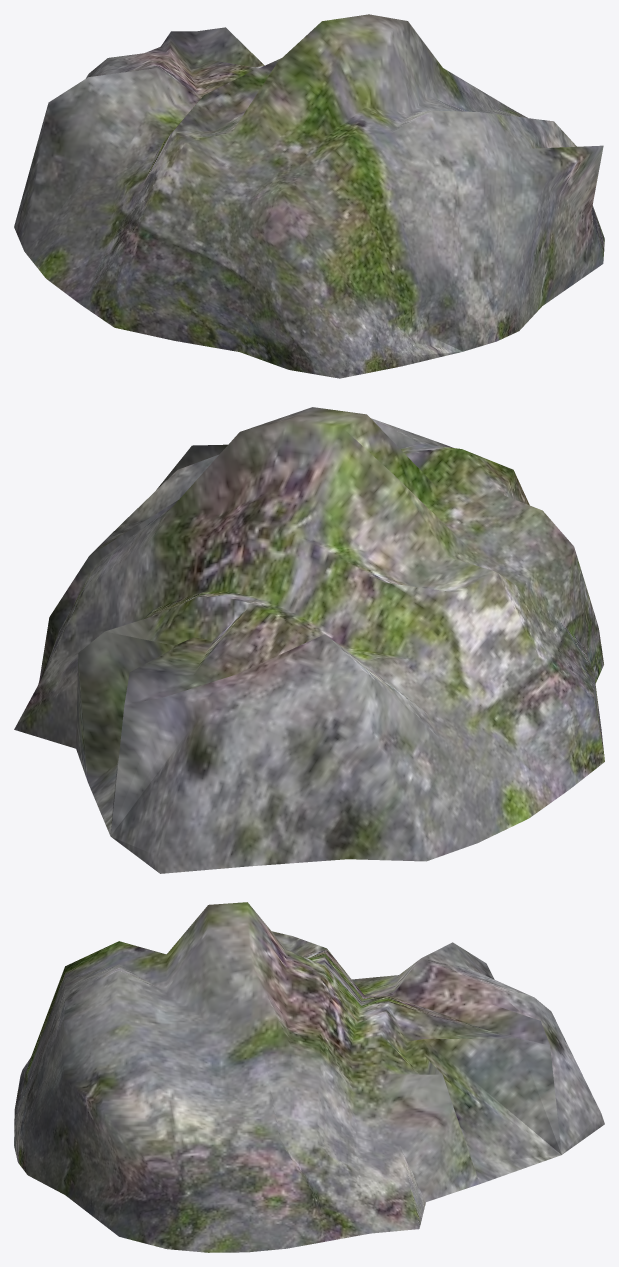
File: mountain.fbx
3 views of the same model, one above another, from view 1: azimuth 30°, elevation 25°; view 2: azimuth 150°, elevation 25°; view 3: azimuth 270°, elevation 25° (orthographic). The views are drawn at different scales.
Visible parts, largest first — view 1: mountain_1; view 2: mountain_1; view 3: mountain_1.
Part boxes in pixels (bbox=[...]): mountain_1: bbox=[14, 14, 604, 378]; mountain_1: bbox=[14, 407, 604, 873]; mountain_1: bbox=[14, 902, 604, 1252].
Size of the model in its own units: 40.87 by 46.74 by 20.49.
Materials: 1 (1 with a texture image).
